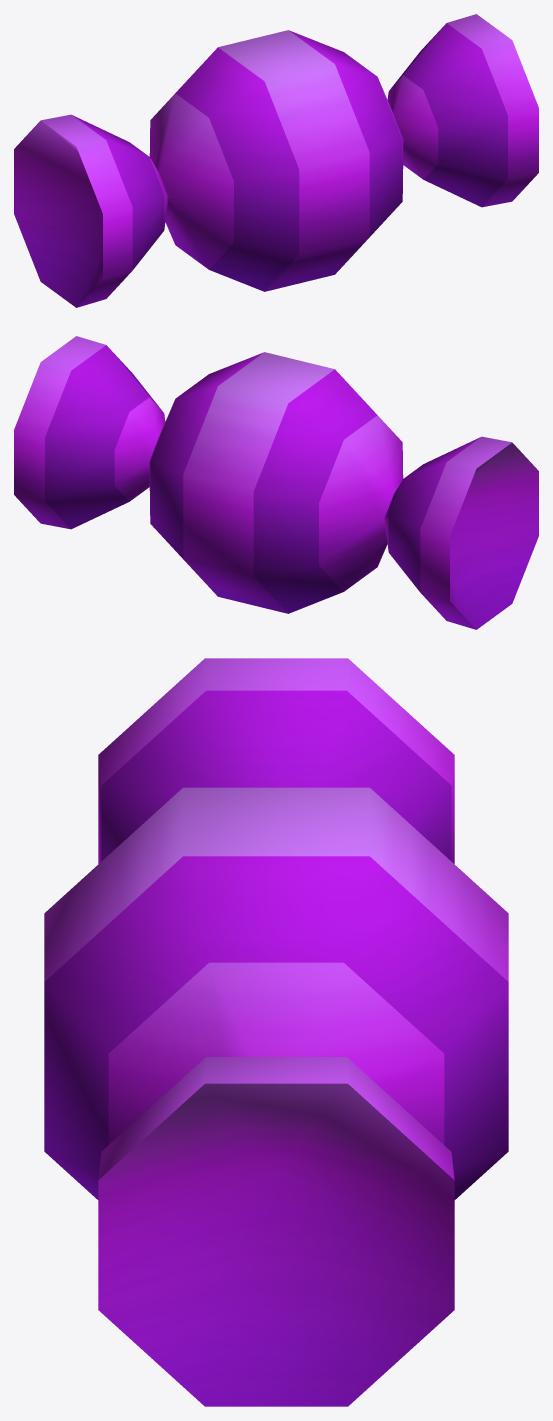
Rendered from candy_purple_b.glb.
3 views of the same model, one above another, from view 1: azimuth 30°, elevation 25°; view 2: azimuth 150°, elevation 25°; view 3: azimuth 270°, elevation 25° (orthographic). The views are drawn at different scales.
Parts seen in each view (by area): view 1: candy_purple_B; view 2: candy_purple_B; view 3: candy_purple_B.
Part boxes in pixels (x1,y1,x2,y2): candy_purple_B: (14,14,538,307); candy_purple_B: (14,336,538,629); candy_purple_B: (44,658,508,1406).
Size of the model in its own units: 0.65 by 0.3 by 0.3.
Materials: 1 (1 with a texture image).
